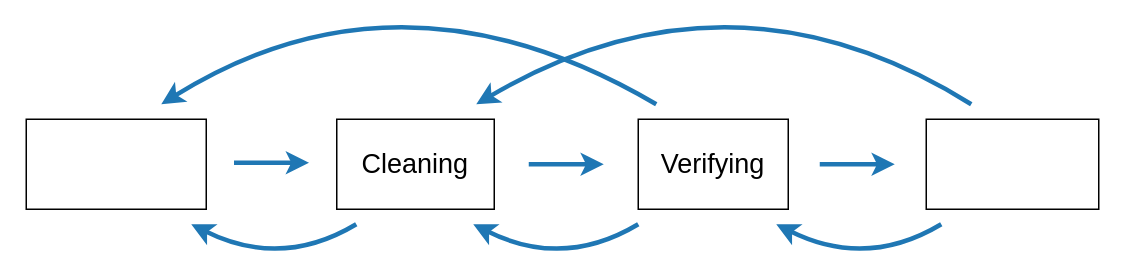
Some shapes in this 1125 by 278 pixel diagram are drawn without their labels. Each missing label, with the centre of its shape:
Inspection / Profiling: point 115,163
Reporting: point 1012,163
